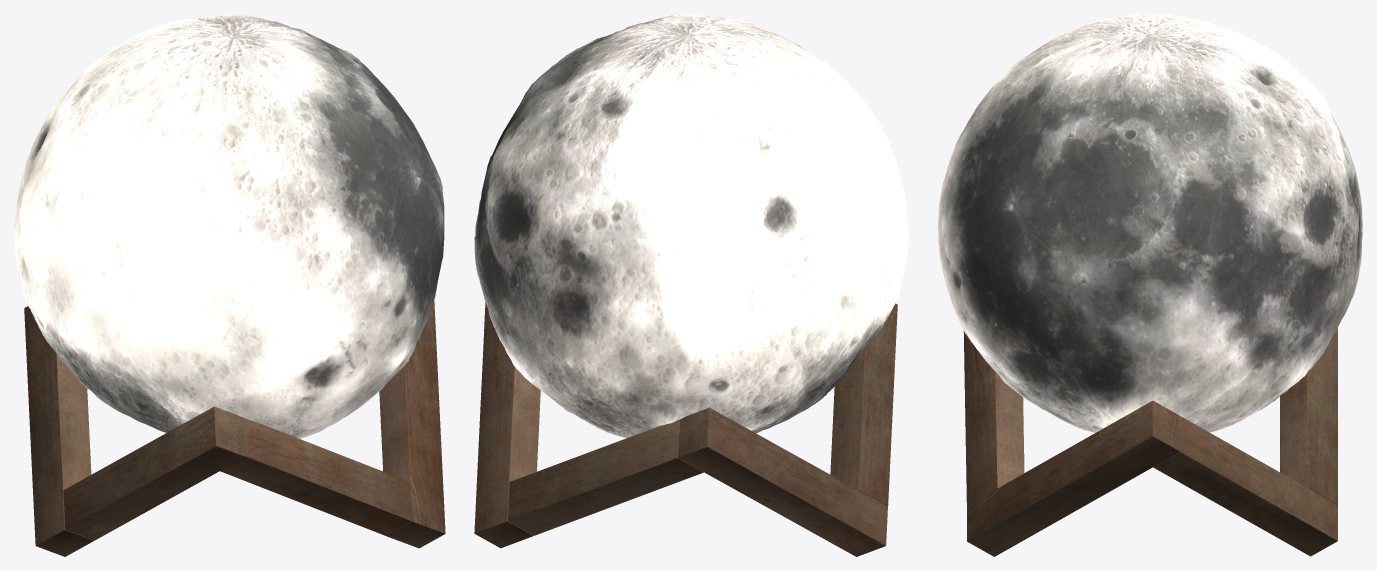
3 renders of one model, left to right at view 1: azimuth 30°, elevation 25°; view 2: azimuth 150°, elevation 25°; view 3: azimuth 270°, elevation 25°, orthographic. The views are drawn at different scales.
Parts seen in each view (by area): view 1: Moon, Wood_Cage; view 2: Moon, Wood_Cage; view 3: Moon, Wood_Cage.
Boxes of the visible parts, x1,y1,x2,y2 form: Moon: [14, 14, 444, 438]; Wood_Cage: [24, 300, 445, 556]; Moon: [474, 14, 908, 437]; Wood_Cage: [474, 302, 897, 556]; Moon: [937, 14, 1362, 432]; Wood_Cage: [963, 328, 1337, 556].
Bounding box in the file's own units: 0.2169 × 0.25 × 0.2043.
2 materials, 2 textured.
